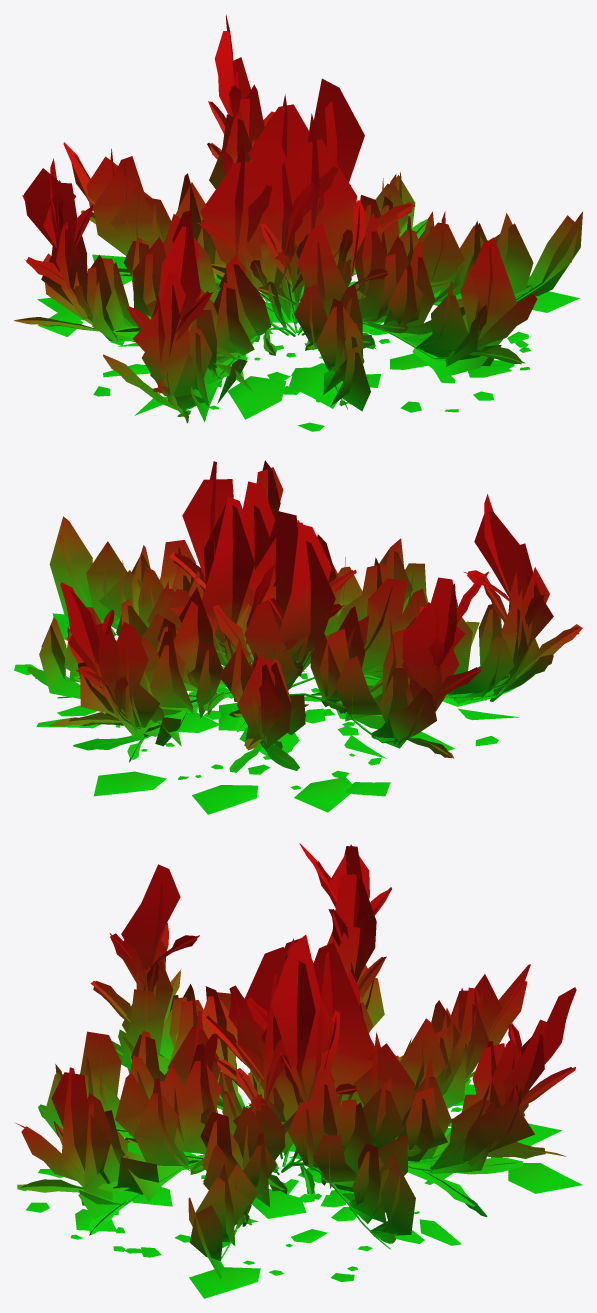
File: River Saltbush_LOD1_Var2_vdfpcgbia.fbx
3 views of the same model, one above another, from view 1: azimuth 30°, elevation 25°; view 2: azimuth 150°, elevation 25°; view 3: azimuth 270°, elevation 25° (orthographic). The views are drawn at different scales.
Visible parts, largest first — view 1: _p80a_Var2_LOD1; view 2: _p80a_Var2_LOD1; view 3: _p80a_Var2_LOD1.
Part boxes in pixels (x1,y1,x2,y2): _p80a_Var2_LOD1: (14,14,582,431); _p80a_Var2_LOD1: (14,460,582,814); _p80a_Var2_LOD1: (15,843,582,1298).
Size of the model in its own units: 87.15 by 41.74 by 81.15.
